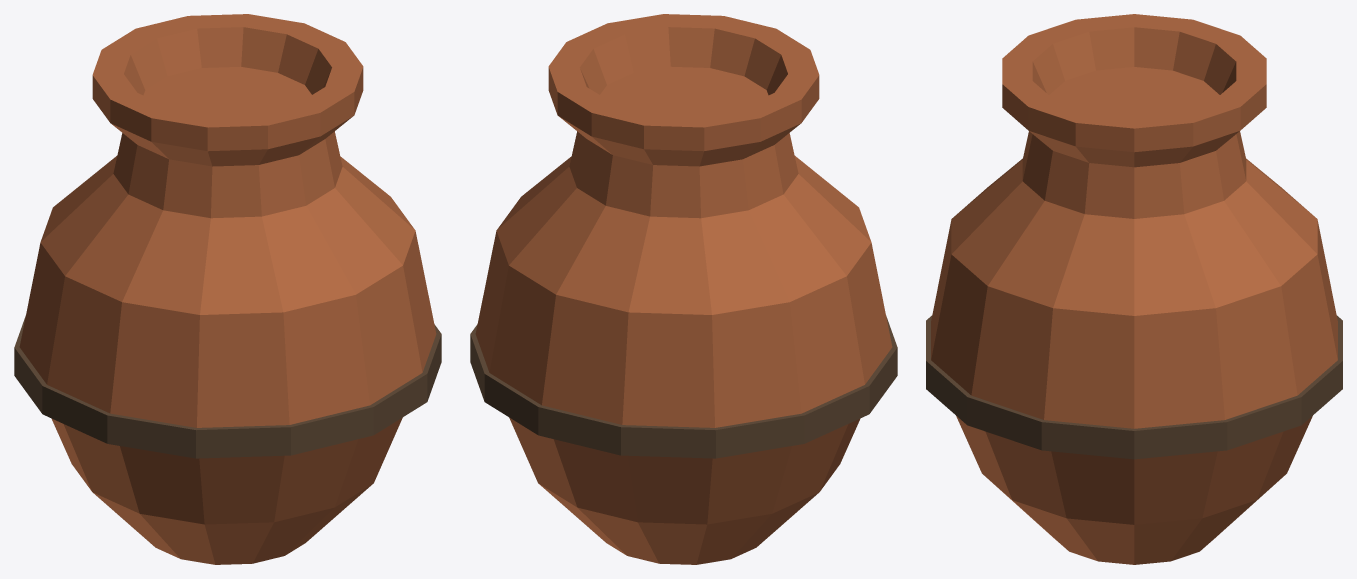
File: decorativos-tinaja.glb
The picture shows the model from 3 angles, left to right: view 1: azimuth 30°, elevation 25°; view 2: azimuth 150°, elevation 25°; view 3: azimuth 270°, elevation 25°; orthographic projection.
Parts seen in each view (by area): view 1: tinaja_Arcilla, tinaja_MaderaOscura; view 2: tinaja_Arcilla, tinaja_MaderaOscura; view 3: tinaja_Arcilla, tinaja_MaderaOscura.
Part boxes in pixels (box(x1,y1,x2,y2)): tinaja_Arcilla: box(19, 14, 436, 564); tinaja_MaderaOscura: box(14, 315, 441, 458); tinaja_Arcilla: box(475, 14, 892, 564); tinaja_MaderaOscura: box(470, 315, 897, 458); tinaja_Arcilla: box(931, 14, 1337, 564); tinaja_MaderaOscura: box(926, 315, 1342, 459).
Size of the model in its own units: 0.82 by 0.97 by 0.7994.
